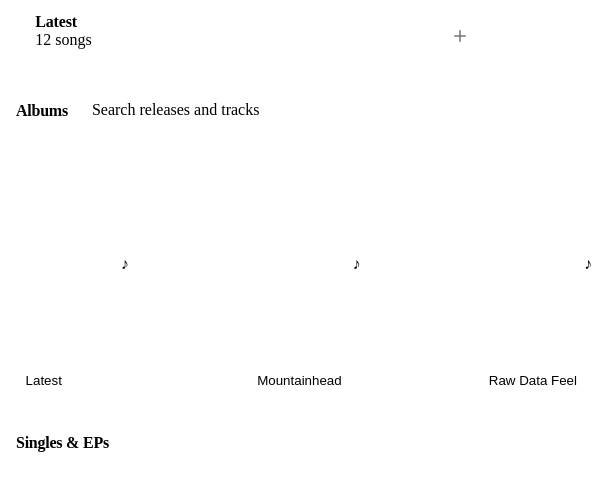
ArtistPanel › shelf search › filters the shelves while typing, shows a track hit line, and restores on clear
(page scrolled)
Type "pizza" into the field.
click(185, 110); type("pizza")  # box [92, 101, 278, 119]
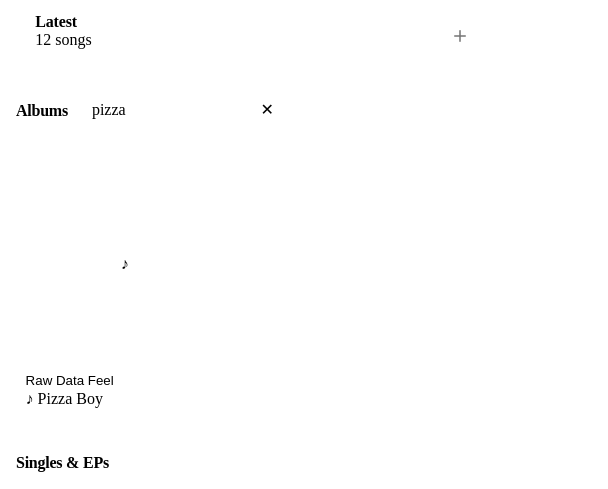
Expected: the button "Raw Data Feel" is shown, [26, 373, 224, 388]
Expected: the button "Mountainhead" is gone
Expected: the text "♪ Pizza Boy" is shown, [26, 390, 103, 407]
Click the button named "Clear search".
click(267, 110)  # box [256, 98, 278, 122]
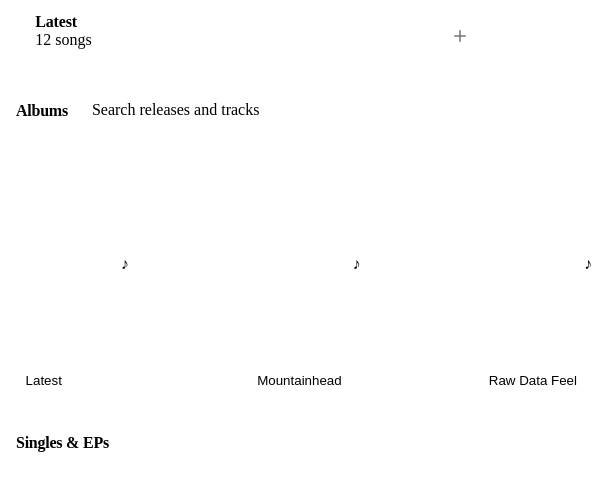
Expected: the text "♪ Pizza Boy" is not shown
Expected: the button "Mountainhead" is shown, [257, 373, 456, 388]
